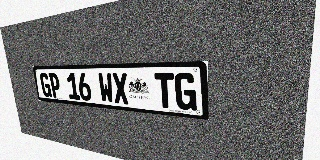1: (66, 73, 80, 100)
6: (77, 73, 92, 101)
G: (174, 73, 197, 111), (39, 73, 52, 97)
P: (48, 73, 62, 98)
T: (154, 73, 175, 109)
W: (98, 73, 114, 103)
X: (112, 73, 129, 105)
